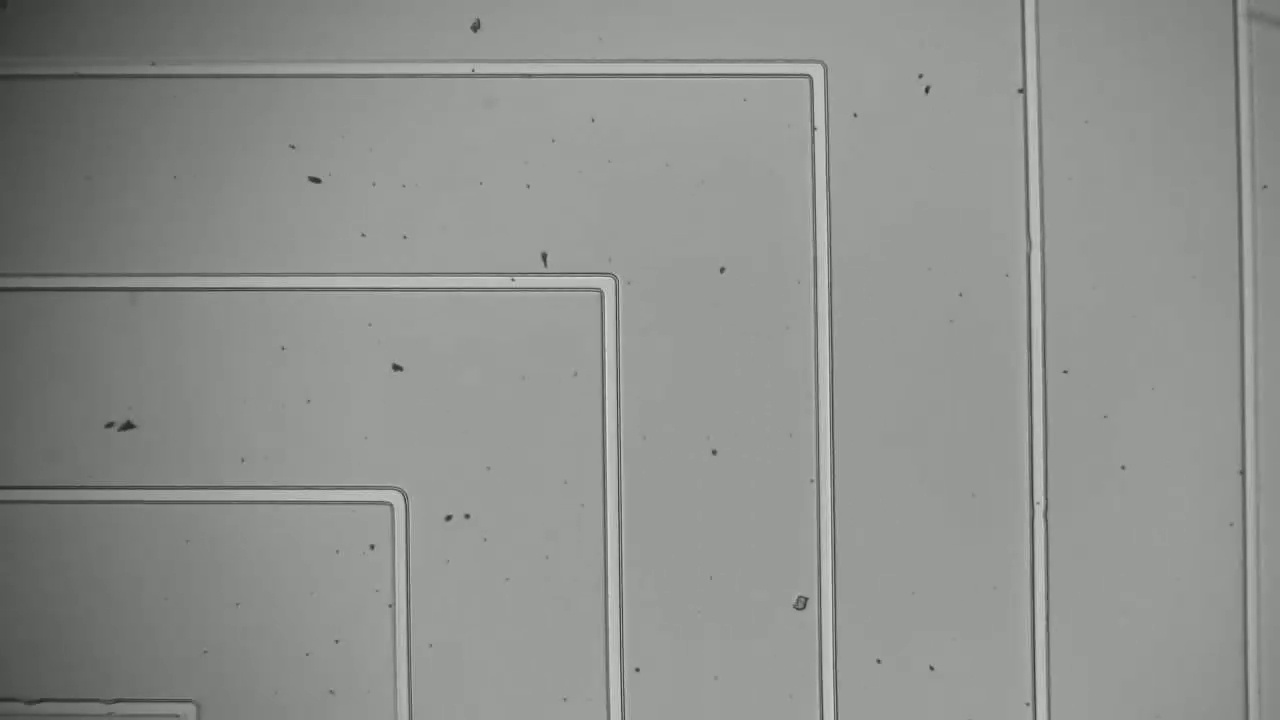edge_bite: (89, 688, 125, 720), (16, 688, 48, 720)
